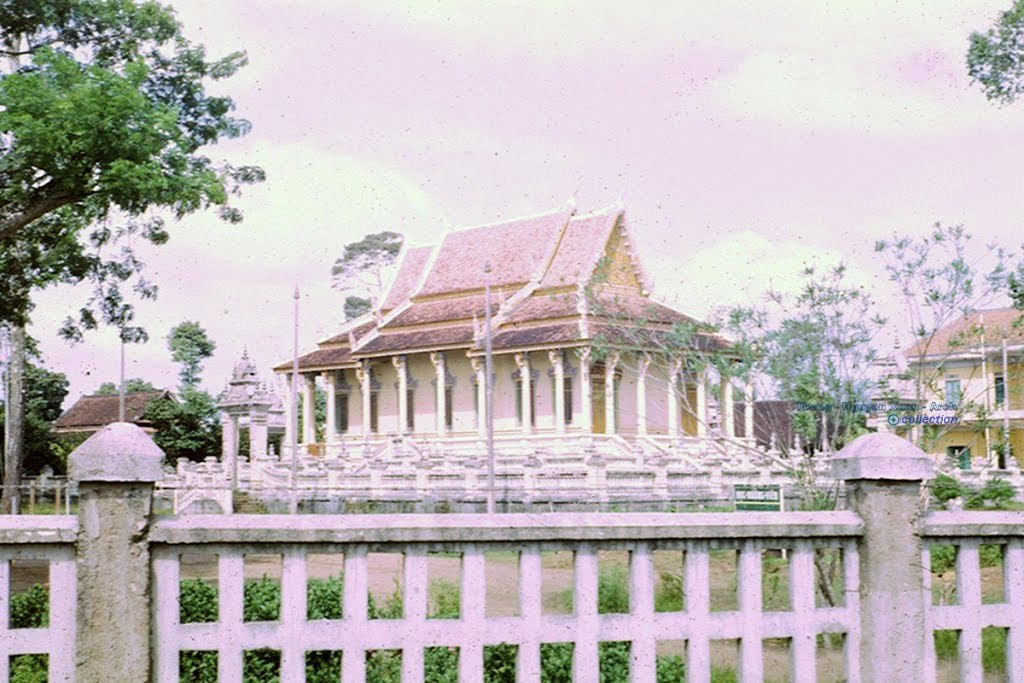Tree: (0, 0, 259, 422), (871, 212, 1022, 545), (755, 247, 901, 436), (140, 305, 243, 481), (325, 229, 410, 351), (956, 0, 1022, 131)
